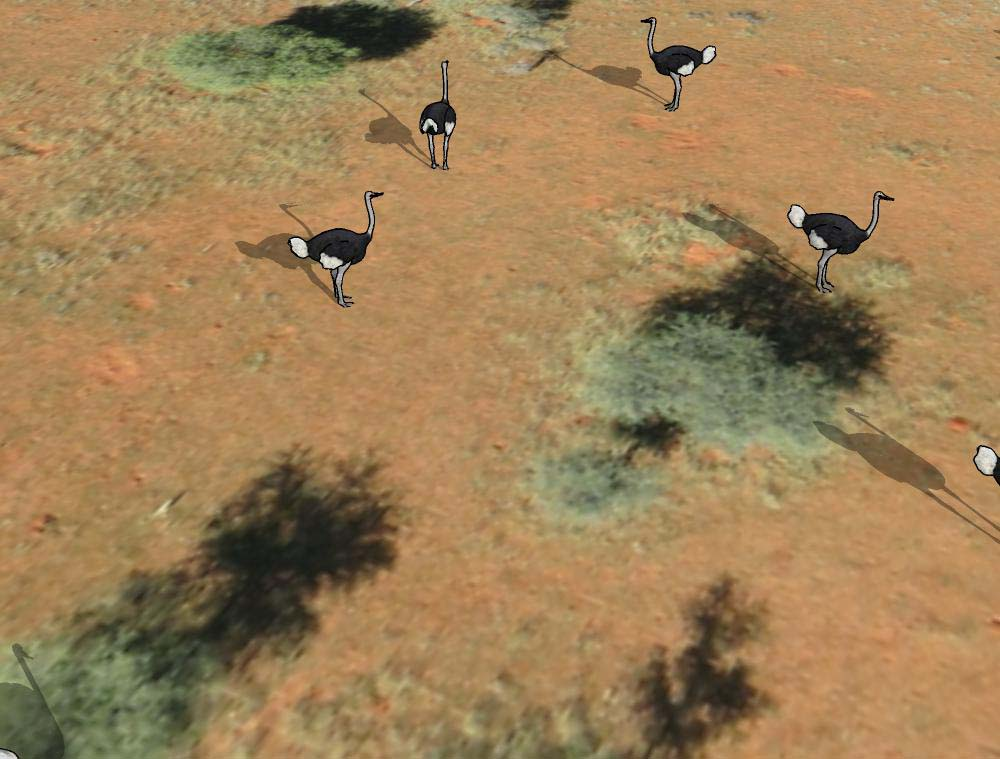springbok: (287, 183, 382, 309), (786, 187, 895, 295), (640, 8, 722, 120), (412, 54, 461, 174)
